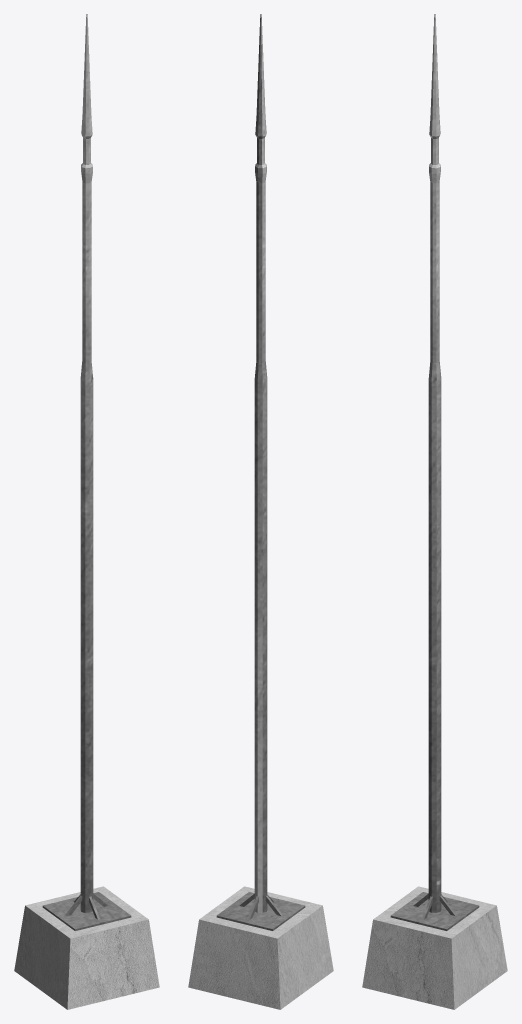
File: Roof_Deco_002.fbx
3 renders of one model, left to right at view 1: azimuth 30°, elevation 25°; view 2: azimuth 150°, elevation 25°; view 3: azimuth 330°, elevation 25°, orthographic.
Visible parts, largest first — view 1: Roof_Deco_002; view 2: Roof_Deco_002; view 3: Roof_Deco_002.
Boxes of the visible parts, x1,y1,x2,y2 form: Roof_Deco_002: (14, 14, 159, 1009); Roof_Deco_002: (188, 14, 333, 1009); Roof_Deco_002: (362, 14, 507, 1009).
Size of the model in its own units: 30.91 by 309 by 30.91.
1 material, 1 textured.
